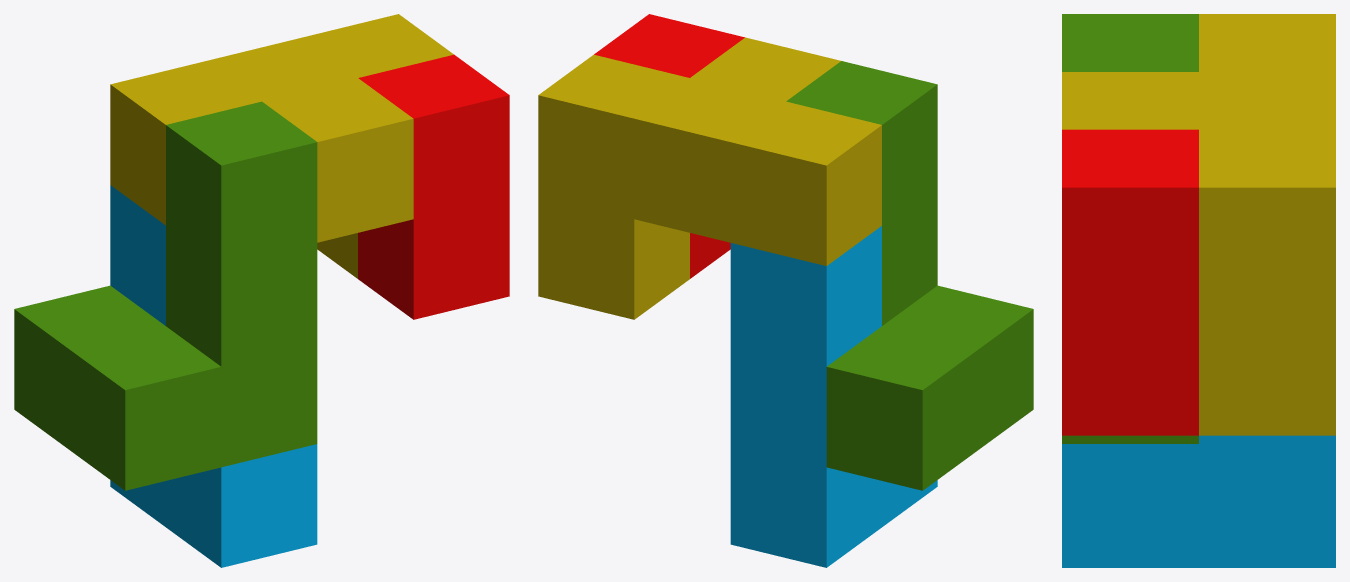
The picture shows the model from 3 angles, left to right: view 1: azimuth 30°, elevation 25°; view 2: azimuth 150°, elevation 25°; view 3: azimuth 270°, elevation 25°; orthographic projection. The views are drawn at different scales.
Parts seen in each view (by area): view 1: mergedBlocks(Clone); view 2: mergedBlocks(Clone); view 3: mergedBlocks(Clone).
Boxes of the visible parts, x1=… form: mergedBlocks(Clone): x1=14, y1=14, x2=509, y2=567; mergedBlocks(Clone): x1=538, y1=14, x2=1033, y2=567; mergedBlocks(Clone): x1=1062, y1=14, x2=1335, y2=567.
Bounding box in the file's own units: 4 × 4 × 2.
Materials: 4 (4 with a texture image).
